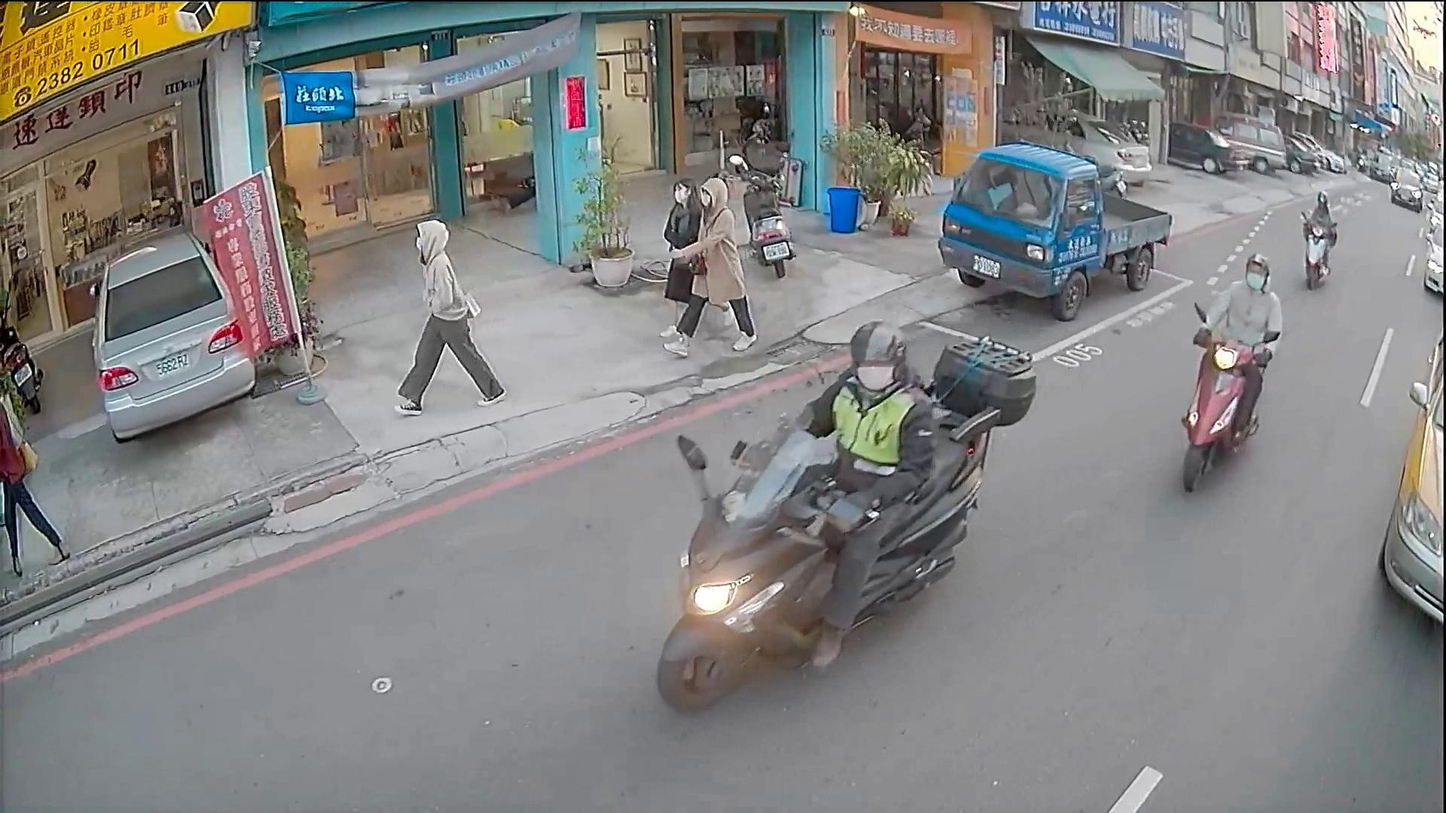person: (671, 319, 943, 664), (383, 209, 505, 418), (1184, 255, 1285, 457), (661, 159, 761, 352), (651, 172, 752, 341), (1299, 187, 1336, 284)
